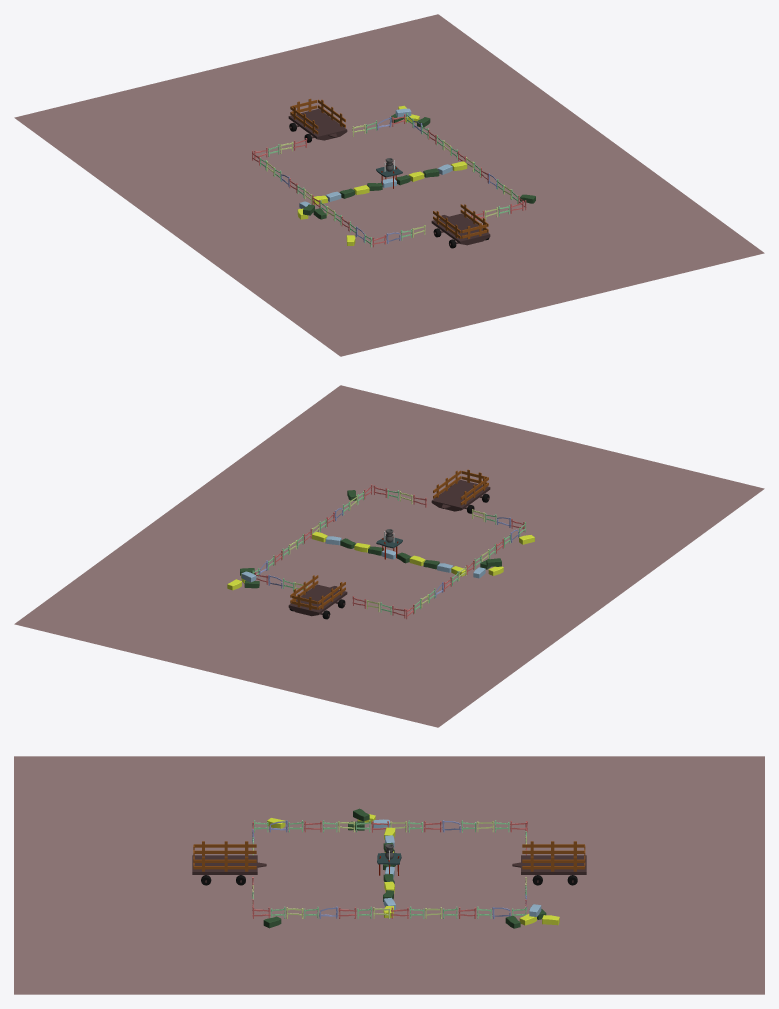
The picture shows the model from 3 angles, top to bottom: view 1: azimuth 30°, elevation 25°; view 2: azimuth 150°, elevation 25°; view 3: azimuth 270°, elevation 25°; orthographic projection. The views are drawn at different scales.
Parts seen in each view (by area): view 1: Terrain, Remorque 2, Remorque, Bois remorque, Bois remorque 2; view 2: Terrain, Remorque, Remorque 2, Bois remorque 2, Bois remorque; view 3: Terrain, Bois remorque 2, Bois remorque, Remorque, Remorque 2.
Boxes of the visible parts, box(x1,y1,x2,y2) form: Terrain: box(14, 14, 764, 356); Remorque 2: box(288, 109, 347, 140); Remorque: box(431, 213, 490, 245); Bois remorque: box(433, 204, 488, 239); Bois remorque 2: box(290, 98, 345, 134); Terrain: box(14, 385, 764, 727); Remorque: box(431, 480, 490, 511); Remorque 2: box(288, 584, 347, 616); Bois remorque 2: box(290, 575, 345, 610); Bois remorque: box(433, 469, 488, 505); Terrain: box(14, 756, 764, 994); Bois remorque 2: box(522, 841, 585, 871); Bois remorque: box(193, 841, 256, 871); Remorque: box(192, 855, 266, 882); Remorque 2: box(512, 855, 586, 882).
Bounding box in the file's own units: 975 × 57.99 × 1300.
